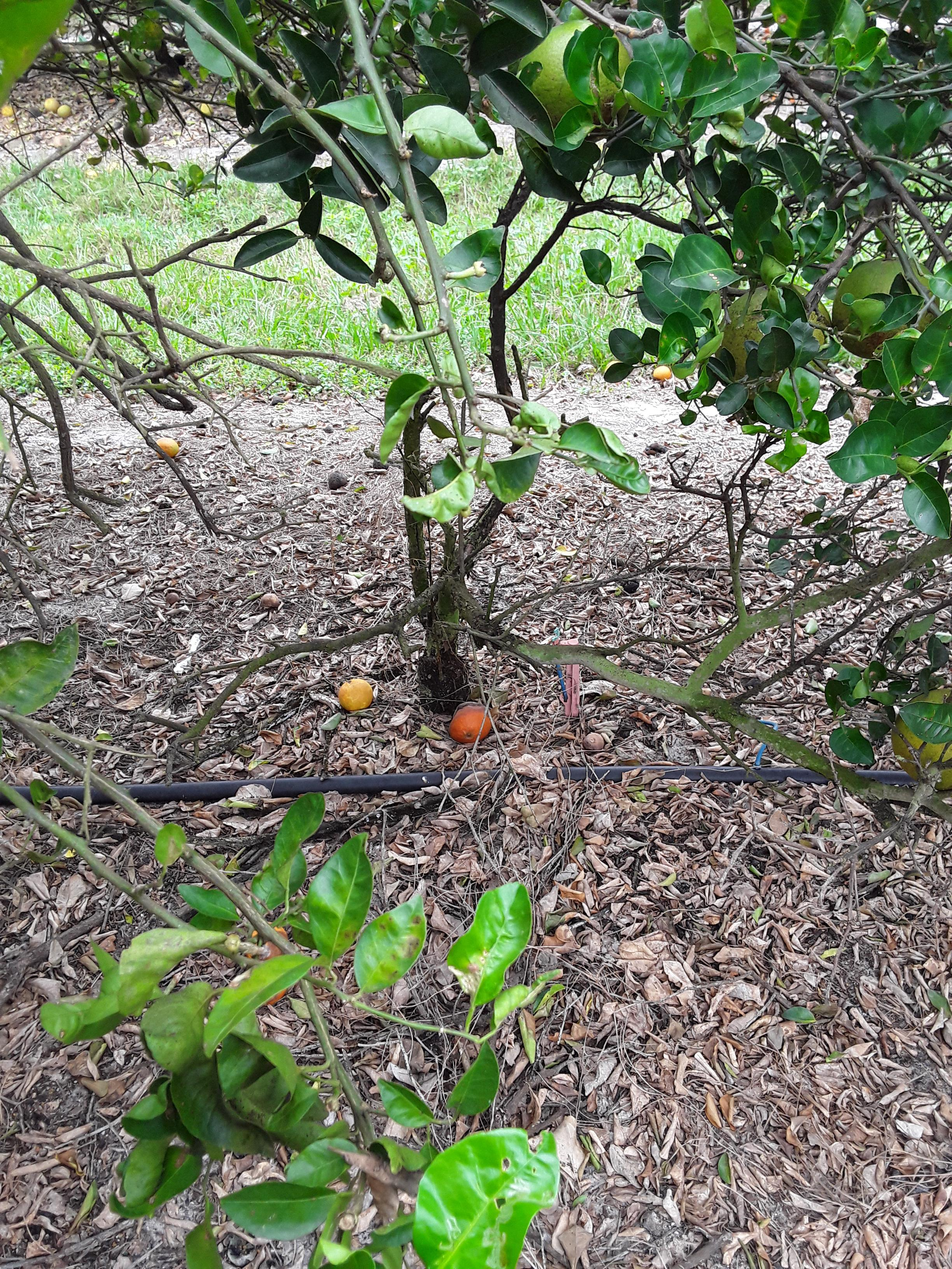fruit_on_ground: (710, 283, 833, 403), (513, 18, 638, 127), (835, 252, 940, 363), (118, 49, 154, 84), (124, 119, 151, 148)
fruit_on_tree: (890, 687, 952, 792), (247, 926, 287, 1009), (449, 701, 496, 744), (335, 680, 376, 713), (153, 437, 180, 459), (605, 358, 627, 380), (653, 366, 672, 384), (44, 97, 58, 112), (201, 102, 215, 116), (59, 105, 70, 118)
